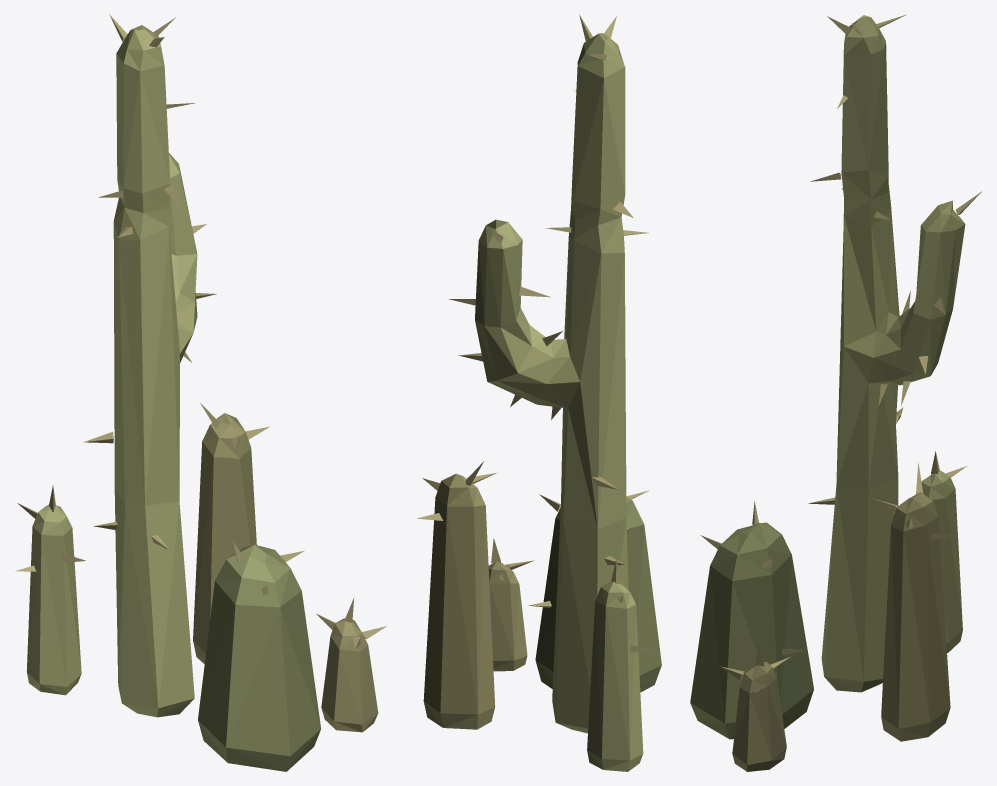
Rendered from cactus4.fbx.
3 views of the same model, side by side, from view 1: azimuth 30°, elevation 25°; view 2: azimuth 150°, elevation 25°; view 3: azimuth 270°, elevation 25° (orthographic). The views are drawn at different scales.
Visible parts, largest first — view 1: Object Cactus 2024-03-16_08-24-55; view 2: Object Cactus 2024-03-16_08-24-55; view 3: Object Cactus 2024-03-16_08-24-55.
Part boxes in pixels (bbox=[...]): Object Cactus 2024-03-16_08-24-55: bbox=[15, 14, 386, 771]; Object Cactus 2024-03-16_08-24-55: bbox=[417, 15, 661, 771]; Object Cactus 2024-03-16_08-24-55: bbox=[690, 14, 981, 771].
Bounding box in the file's own units: 12600 × 30400 × 11800.
